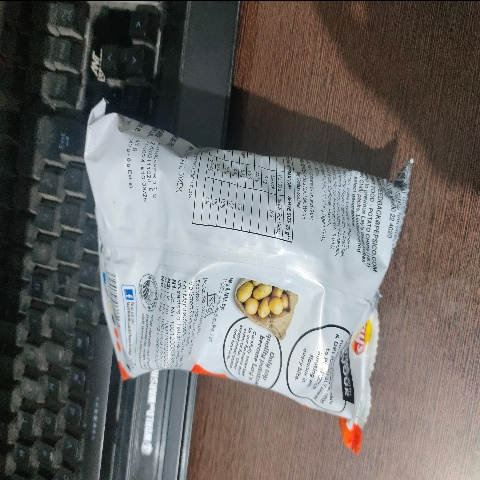lays_orange_pack: (54, 96, 437, 439)
